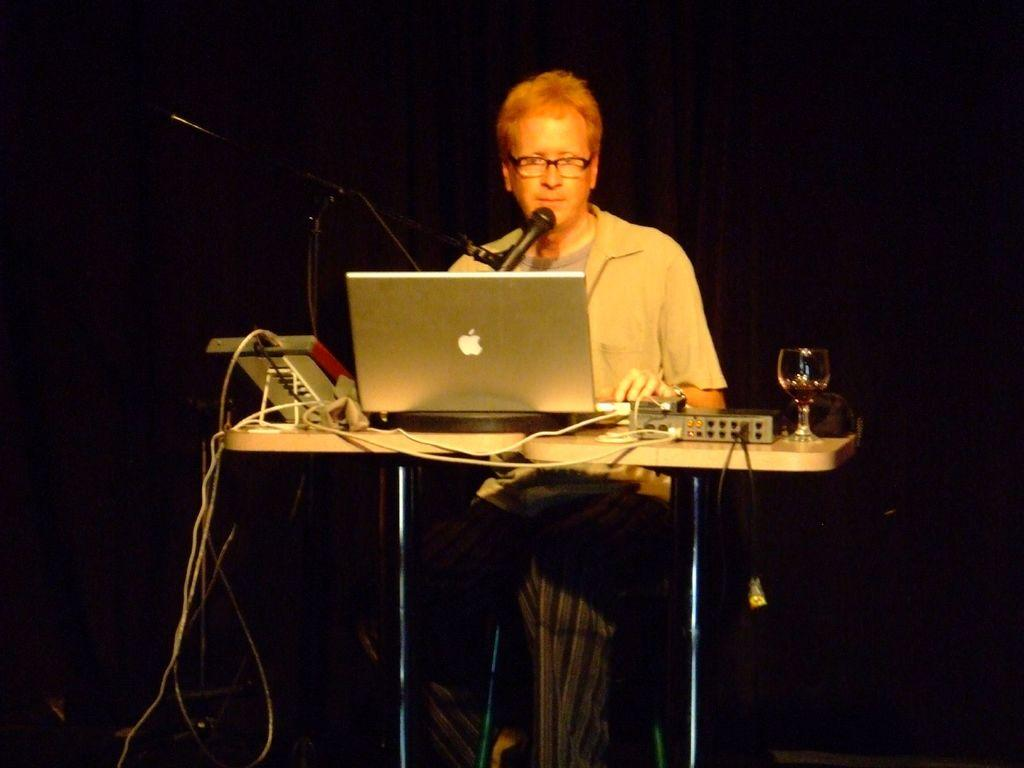Laptop: (305, 245, 669, 464)
